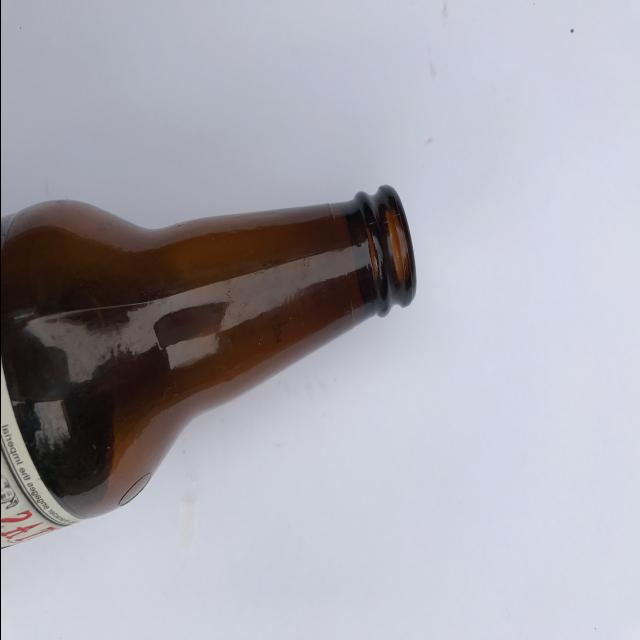glass: (0, 180, 418, 558)
